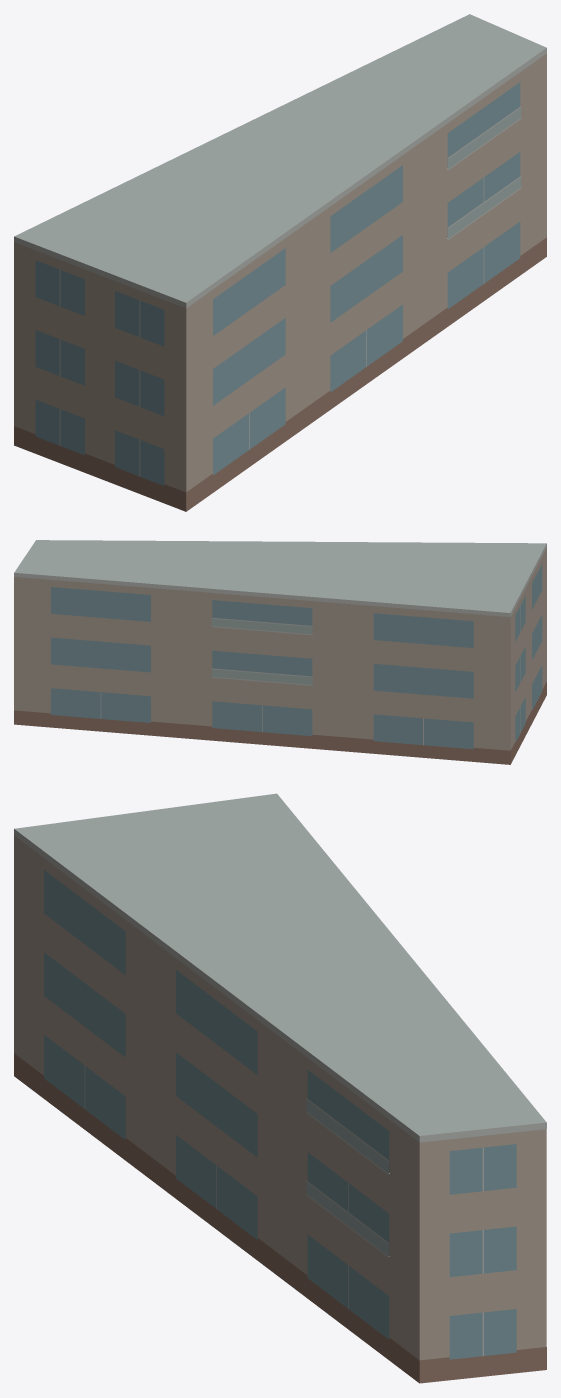
Rendered from survey-upis-32655185.glb.
3 views of the same model, one above another, from view 1: azimuth 30°, elevation 25°; view 2: azimuth 150°, elevation 25°; view 3: azimuth 270°, elevation 25° (orthographic). The views are drawn at different scales.
Parts seen in each view (by area): view 1: survey-upis-32655185.tmp; view 2: survey-upis-32655185.tmp; view 3: survey-upis-32655185.tmp.
Boxes of the visible parts, x1,y1,x2,y2 form: survey-upis-32655185.tmp: [14, 14, 546, 511]; survey-upis-32655185.tmp: [14, 540, 546, 764]; survey-upis-32655185.tmp: [14, 793, 546, 1383].
Bounding box in the file's own units: 27.18 × 9.15 × 17.87.
